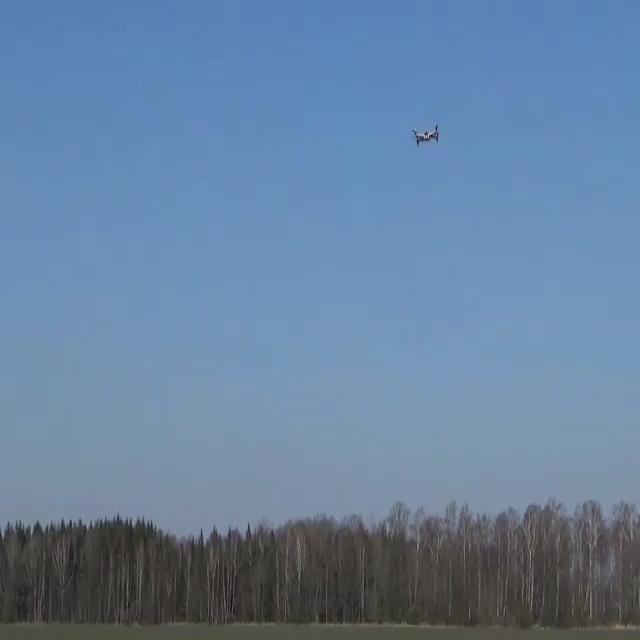drone: (411, 124, 439, 145)
